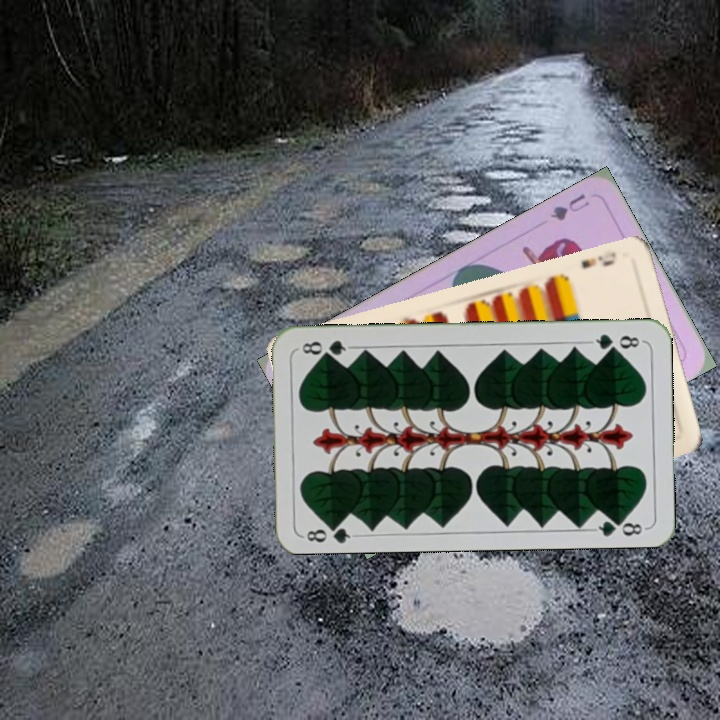E9: (577, 247, 619, 272)
G8: (300, 518, 359, 545), (586, 330, 645, 354)
GU: (546, 190, 592, 223)
